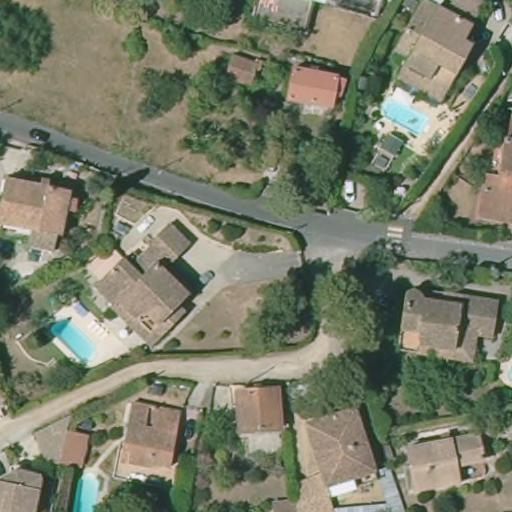pool: (376, 92, 432, 138), (46, 314, 99, 360), (70, 467, 104, 511)
